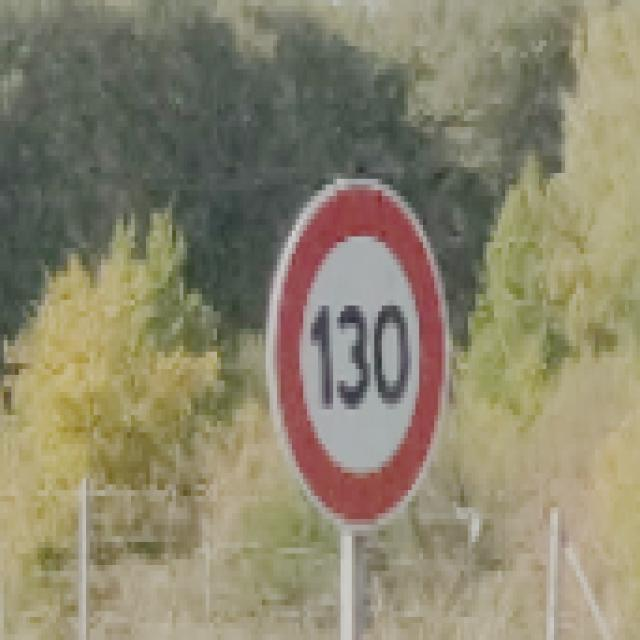speed_130: (266, 174, 453, 532)
